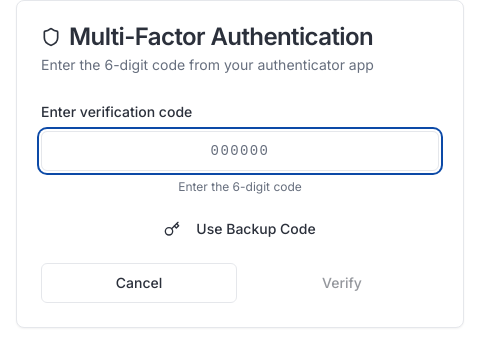
MfaVerification Component › should validate code length (6 digits)
Type "12345" into the field with placeholder "000000" at [240, 151], box [41,131,439,171]
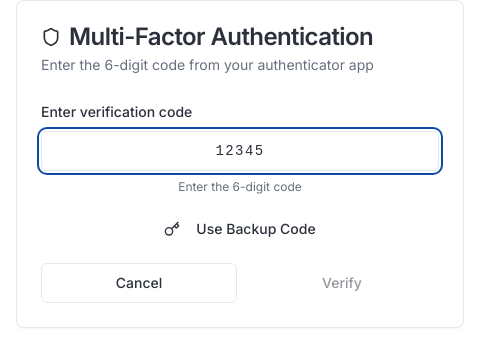
Expected: the button "Verify" is disabled, [245,263,439,303]
Type "6" into the field with placeholder "000000" at [240, 151], box [41,131,439,171]
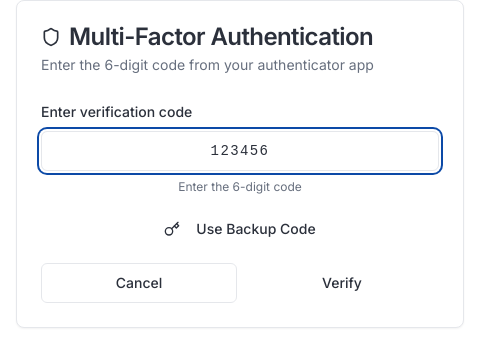
Expected: the button "Verify" is enabled, [245,263,439,303]
